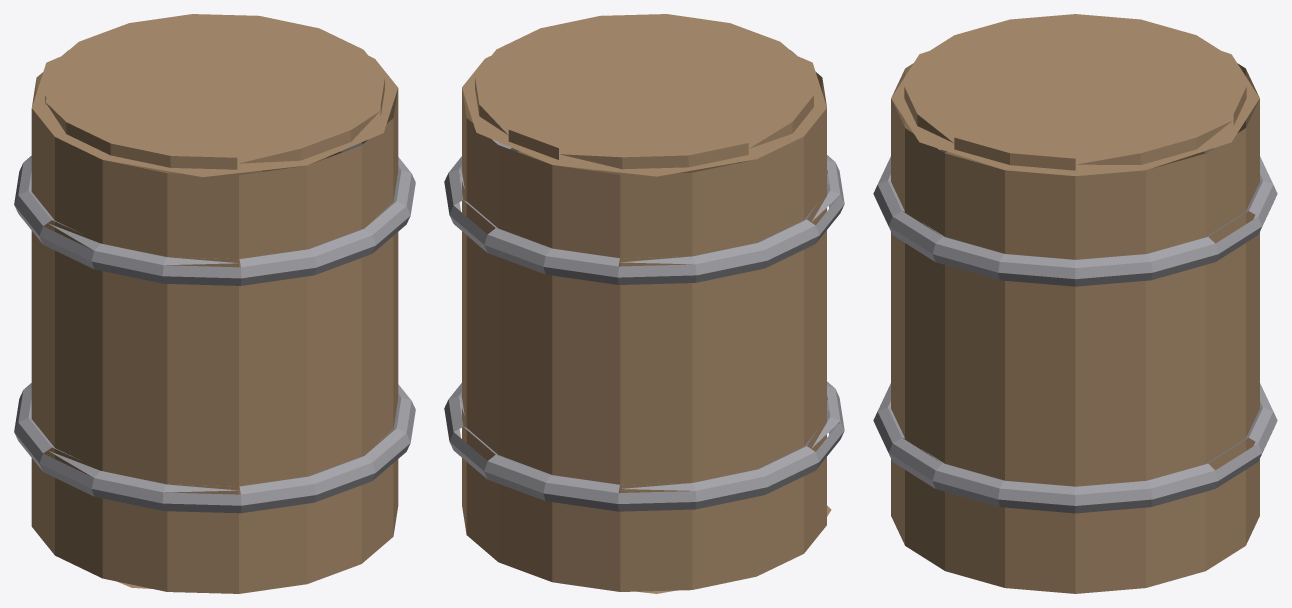
File: barrel.glb
3 renders of one model, left to right at view 1: azimuth 30°, elevation 25°; view 2: azimuth 150°, elevation 25°; view 3: azimuth 270°, elevation 25°, orthographic.
Visible parts, largest first — view 1: BarrelBody, BarrelLid, BarrelBand1, BarrelBand0; view 2: BarrelBody, BarrelLid, BarrelBand1, BarrelBand0; view 3: BarrelBody, BarrelLid, BarrelBand1, BarrelBand0.
Boxes of the visible parts, <box> form: BarrelBody: <box>31,50,398,593</box>; BarrelLid: <box>45,14,384,169</box>; BarrelBand1: <box>14,143,415,285</box>; BarrelBand0: <box>14,383,415,513</box>; BarrelBody: <box>462,50,831,593</box>; BarrelLid: <box>475,14,813,169</box>; BarrelBand1: <box>444,139,844,284</box>; BarrelBand0: <box>444,381,844,511</box>; BarrelBody: <box>891,51,1259,593</box>; BarrelLid: <box>904,14,1246,170</box>; BarrelBand1: <box>873,148,1277,286</box>; BarrelBand0: <box>873,383,1277,513</box>.
Bounding box in the file's own units: 0.614 × 0.72 × 0.614.
